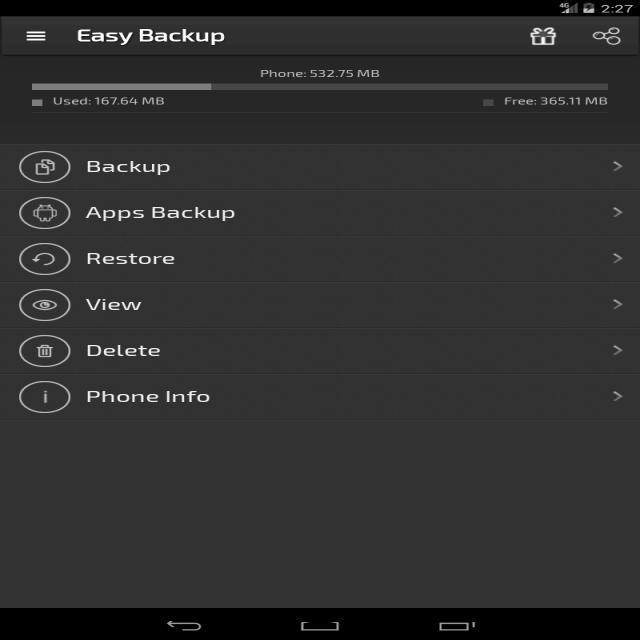ImageButton: (589, 22, 629, 50), (16, 25, 58, 45), (526, 23, 560, 47)
ImageView: (16, 149, 71, 185), (16, 290, 74, 322), (16, 242, 73, 274), (20, 378, 70, 413)
ProgressBar: (24, 81, 615, 93)
TextView: (66, 23, 232, 49), (85, 385, 218, 407), (82, 245, 186, 269), (84, 157, 178, 179), (78, 340, 168, 360)
